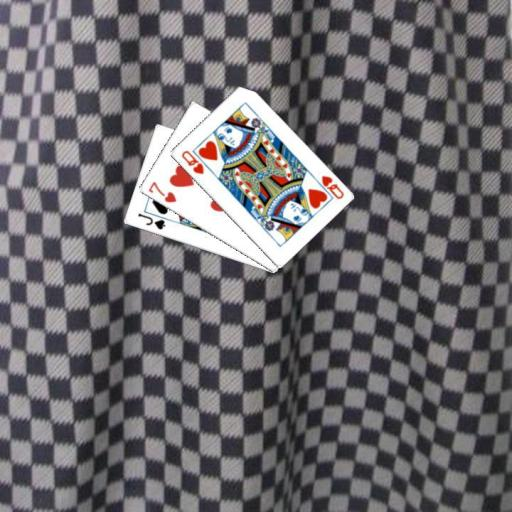7H: (145, 179, 178, 204)
JS: (135, 210, 167, 231)
QH: (310, 172, 345, 201), (178, 147, 205, 176)
